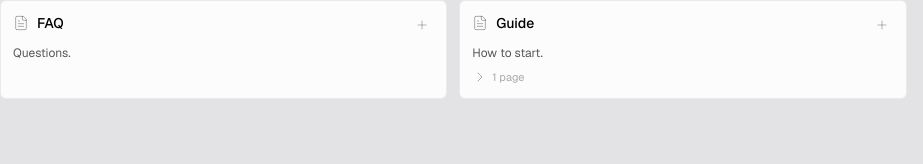
WikiTree › expanding a card reveals its child subtree
Click the button with aria-label "expand guide". click: (498, 77)
box: [472,69,524,86]
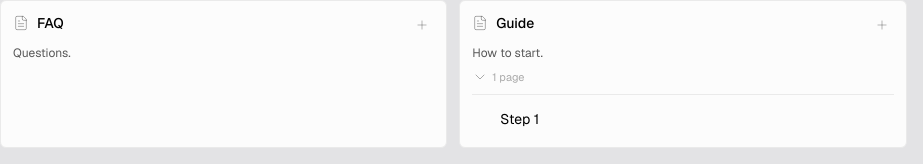
Now the button "Step 1" is shown, box [500,108,858,128]
